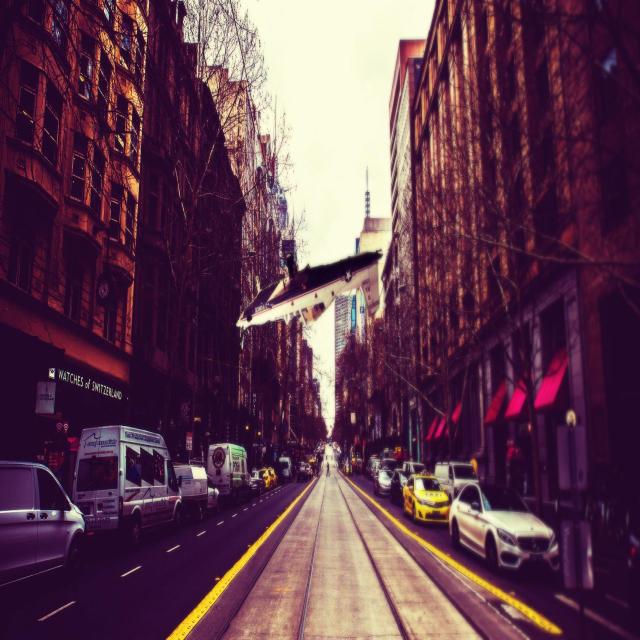airplane: (235, 247, 383, 349)
